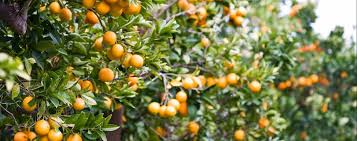orange: (100, 64, 115, 81), (104, 31, 117, 45), (148, 102, 160, 114), (174, 91, 187, 102)
